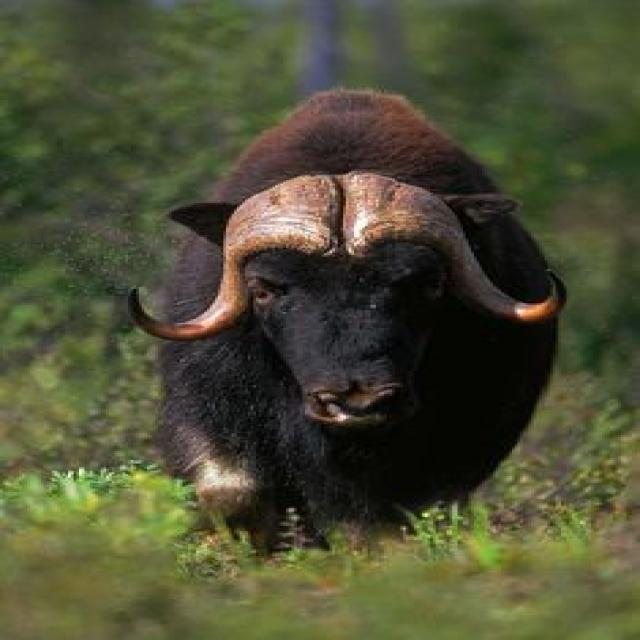Herbivorous: (125, 87, 569, 560)
